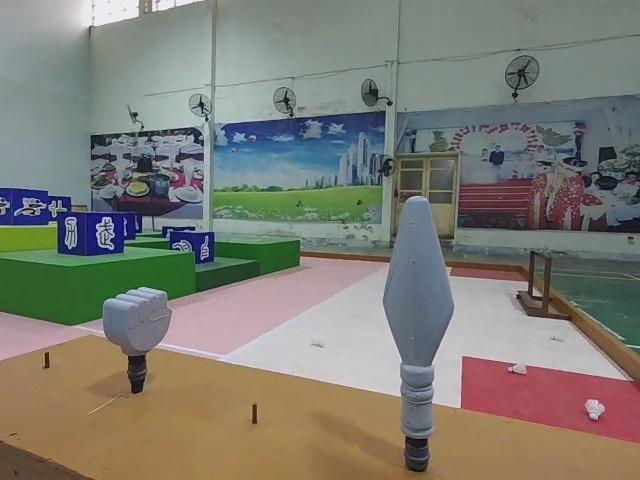Fist: (102, 282, 173, 395)
Sph: (383, 189, 456, 474)
